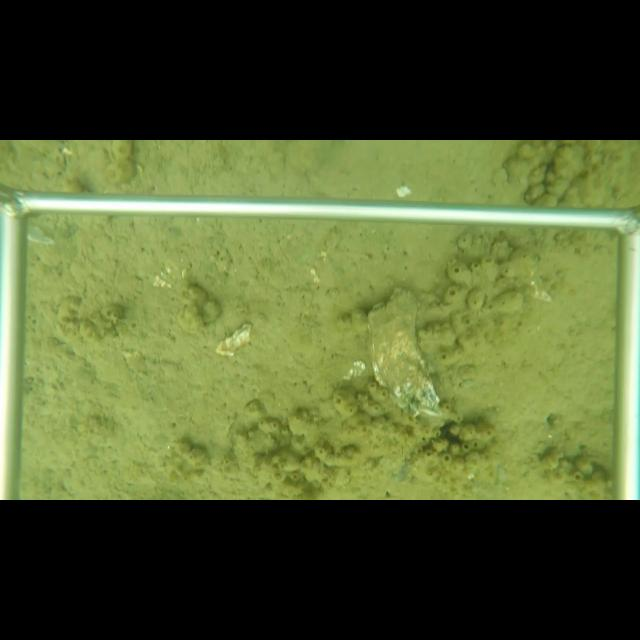Oyster-Closed: (363, 284, 445, 423)
